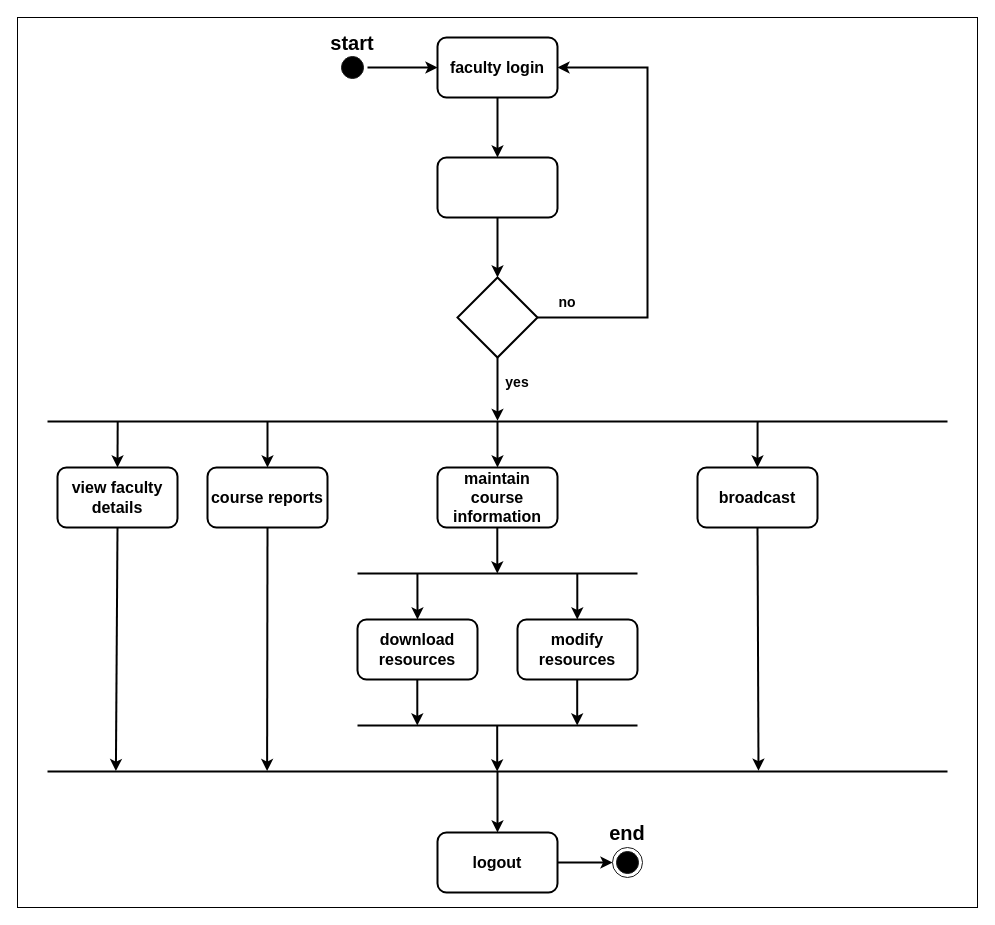
Some shapes in this 995 by 925 pixel diagram are drawn without their labels. Each missing label, with the centre of its shape:
"authentication" goes at [497,187].
"valid" goes at [497,317].
